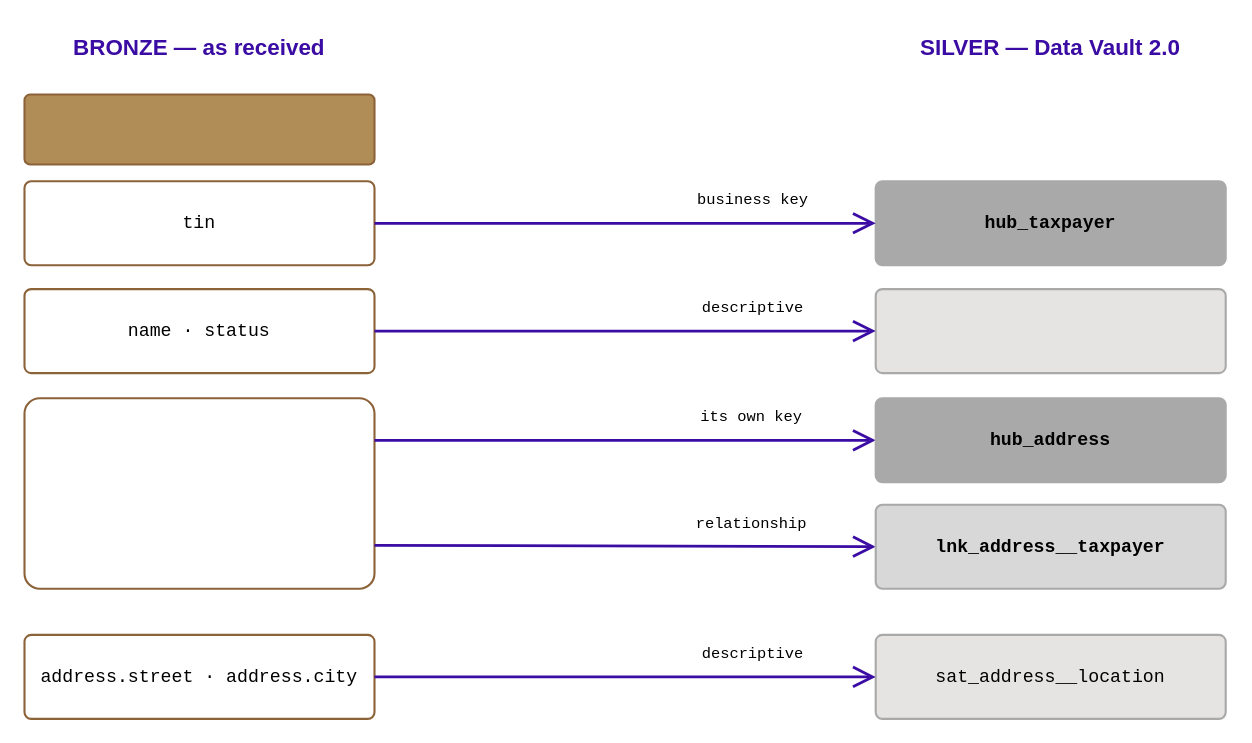
This 1252x743 diagram has some shape labels left out. Each missing label, with the box of its shape:
address (nested, has its own key): (23, 397, 375, 589)
bronze.registry__taxpayers: (23, 93, 375, 165)
sat_taxpayer__registration: (874, 287, 1226, 374)
